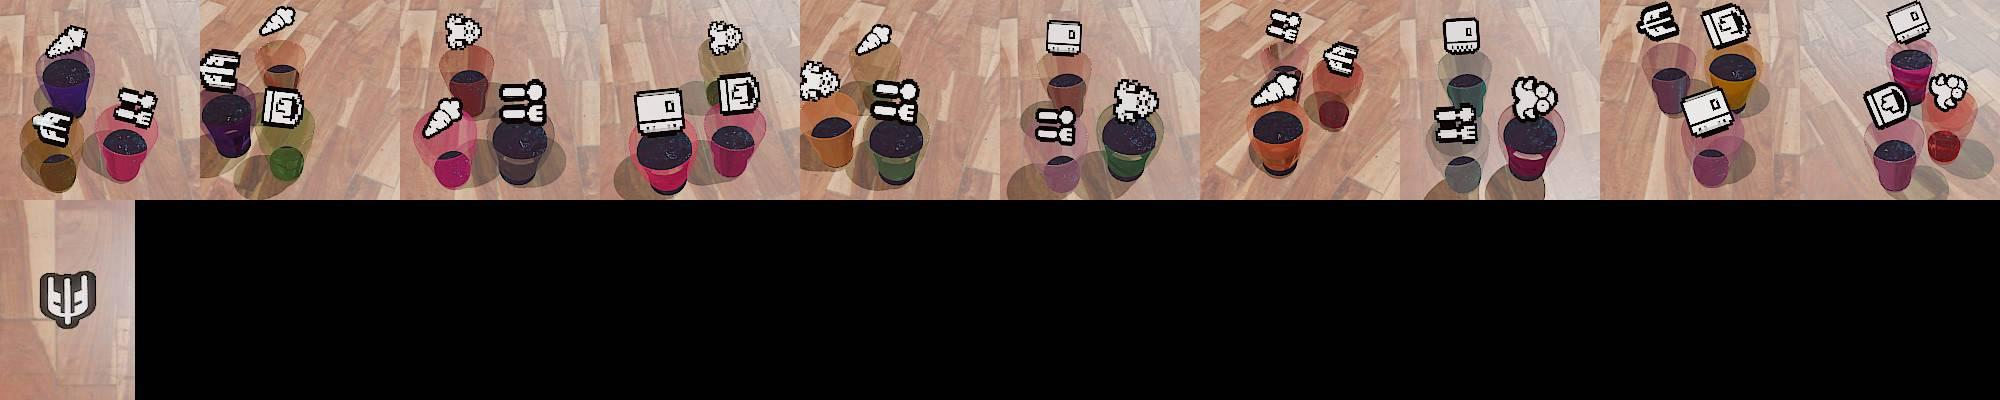icon: (38, 269, 98, 329), (1681, 85, 1735, 137), (633, 87, 687, 136), (1700, 3, 1751, 51), (869, 77, 920, 123), (1863, 81, 1911, 129), (498, 78, 547, 124), (1110, 78, 1160, 123), (1511, 75, 1558, 122), (713, 72, 761, 117), (1250, 66, 1301, 108), (1433, 101, 1479, 144), (112, 86, 158, 129), (1886, 1, 1930, 45), (199, 48, 242, 92), (261, 86, 303, 129), (1034, 104, 1077, 146), (423, 94, 464, 138), (799, 59, 842, 100), (1927, 71, 1970, 112), (1637, 2, 1680, 42), (43, 24, 89, 61), (32, 107, 73, 148), (443, 13, 483, 53), (1442, 17, 1480, 58), (1045, 19, 1082, 58), (1323, 40, 1359, 77), (707, 20, 743, 56), (1266, 8, 1302, 44), (855, 22, 893, 55), (258, 5, 297, 37)
